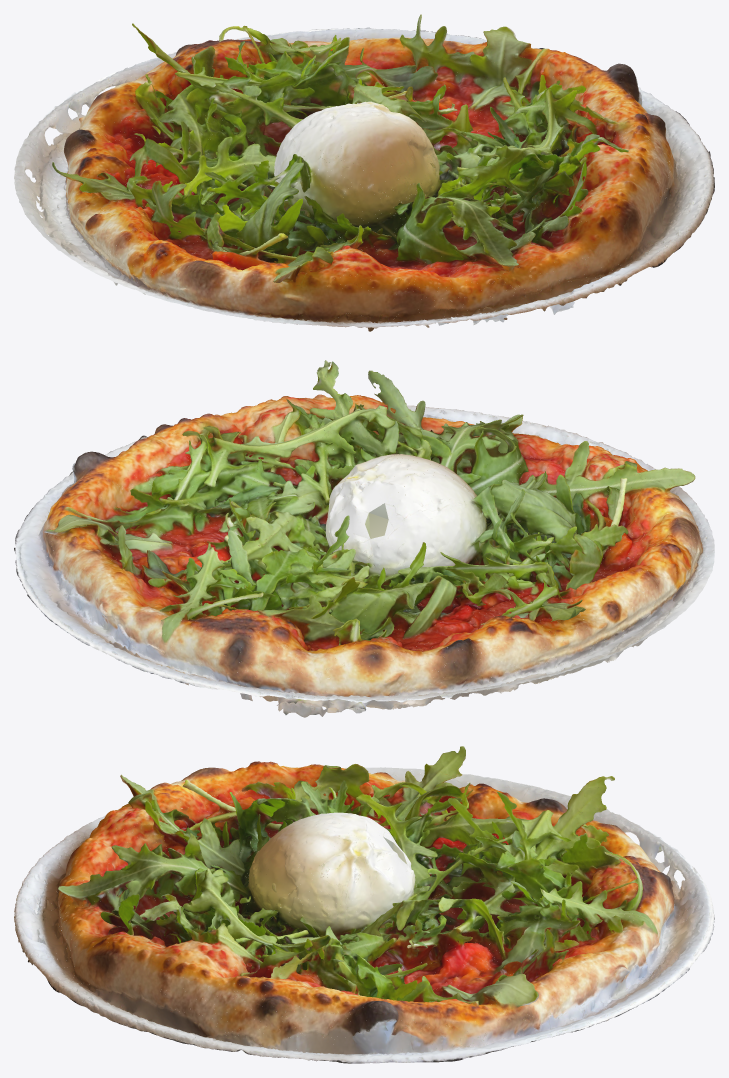
Rendered from pizza_ballerina.glb.
3 views of the same model, one above another, from view 1: azimuth 30°, elevation 25°; view 2: azimuth 150°, elevation 25°; view 3: azimuth 270°, elevation 25° (orthographic).
Visible parts, largest first — view 1: Object_6, Object_5, Object_7, Object_4, Object_8, Object_2, Object_3, Object_9, Object_10; view 2: Object_5, Object_4, Object_3, Object_8, Object_2, Object_7, Object_6, Object_9, Object_10; view 3: Object_2, Object_3, Object_6, Object_4, Object_8, Object_7, Object_5, Object_9, Object_10.
Part boxes in pixels (x1=…): Object_6: x1=128, y1=129, x2=713, y2=331; Object_5: x1=24, y1=29, x2=705, y2=316; Object_7: x1=138, y1=125, x2=714, y2=331; Object_4: x1=15, y1=28, x2=671, y2=276; Object_8: x1=15, y1=23, x2=658, y2=287; Object_2: x1=137, y1=26, x2=709, y2=222; Object_3: x1=210, y1=15, x2=687, y2=198; Object_9: x1=210, y1=14, x2=703, y2=192; Object_10: x1=14, y1=28, x2=714, y2=328; Object_5: x1=196, y1=413, x2=713, y2=713; Object_4: x1=16, y1=424, x2=691, y2=682; Object_3: x1=15, y1=421, x2=332, y2=678; Object_8: x1=144, y1=420, x2=699, y2=717; Object_2: x1=107, y1=417, x2=469, y2=688; Object_7: x1=207, y1=370, x2=713, y2=597; Object_6: x1=145, y1=360, x2=709, y2=587; Object_9: x1=16, y1=425, x2=402, y2=685; Object_10: x1=14, y1=433, x2=714, y2=702; Object_2: x1=157, y1=813, x2=713, y2=1057; Object_3: x1=247, y1=852, x2=703, y2=1062; Object_6: x1=14, y1=763, x2=274, y2=1051; Object_4: x1=182, y1=751, x2=693, y2=1054; Object_8: x1=256, y1=746, x2=713, y2=1003; Object_7: x1=14, y1=768, x2=367, y2=1050; Object_5: x1=58, y1=763, x2=708, y2=1056; Object_9: x1=256, y1=827, x2=714, y2=1062; Object_10: x1=14, y1=767, x2=714, y2=1063.
Size of the model in its own units: 0.33 by 0.0648 by 0.333.
Materials: 1 (1 with a texture image).
